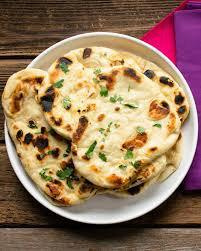Naan: (5, 37, 201, 229)
